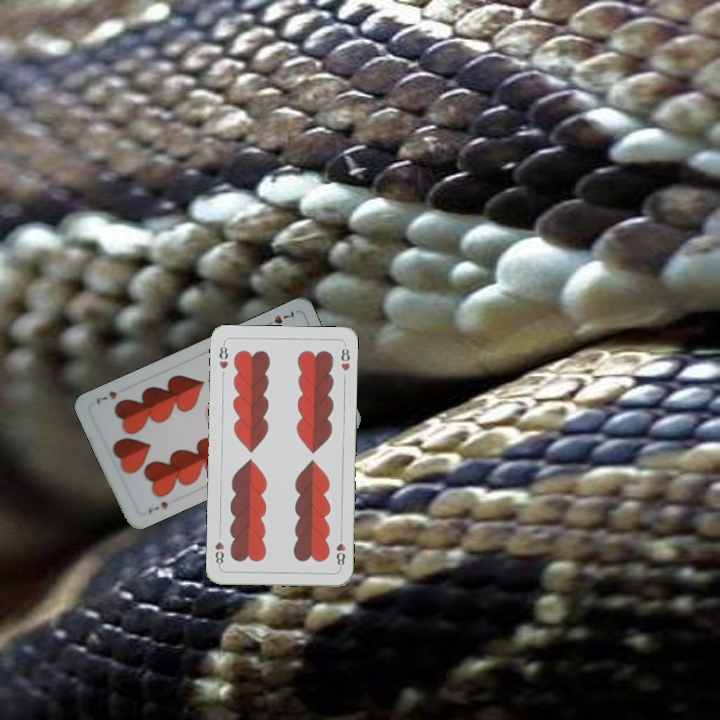H7: (260, 307, 297, 330), (144, 497, 170, 516)
H8: (332, 530, 348, 571), (215, 339, 231, 371)
